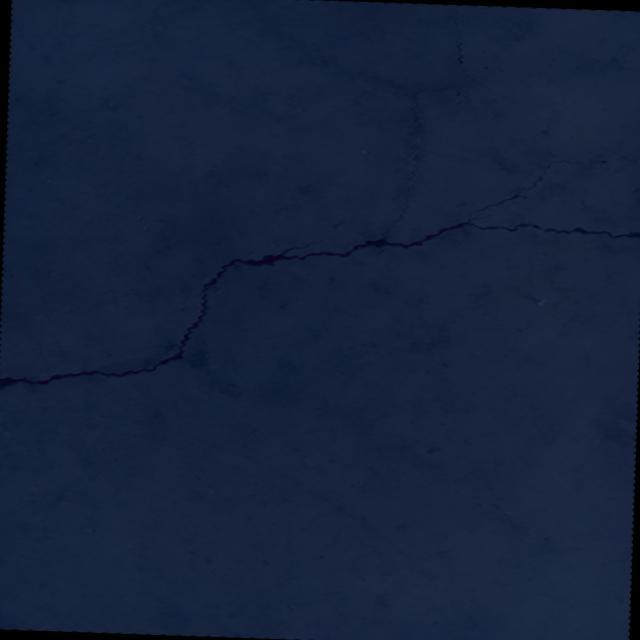crack: (0, 71, 640, 412), (514, 152, 640, 195), (449, 5, 476, 97), (466, 192, 527, 219)
